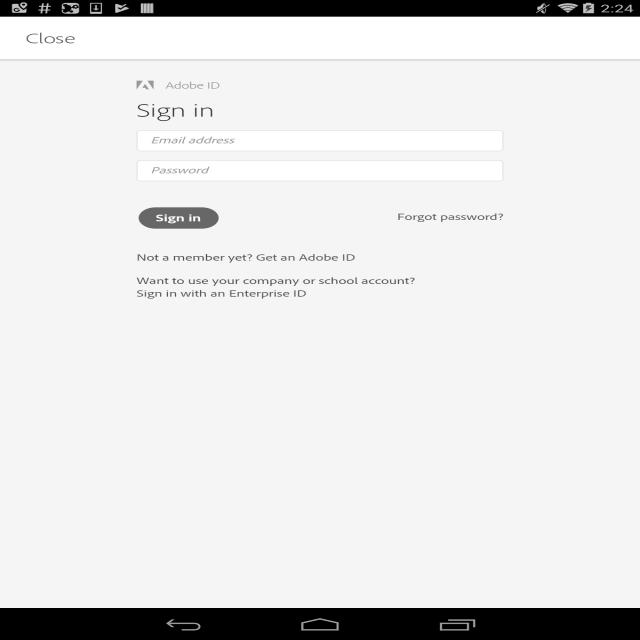Button: (126, 200, 240, 233)
EditText: (121, 124, 522, 154), (126, 159, 516, 189)
TextView: (124, 272, 454, 304), (391, 198, 516, 234), (14, 24, 88, 52)
